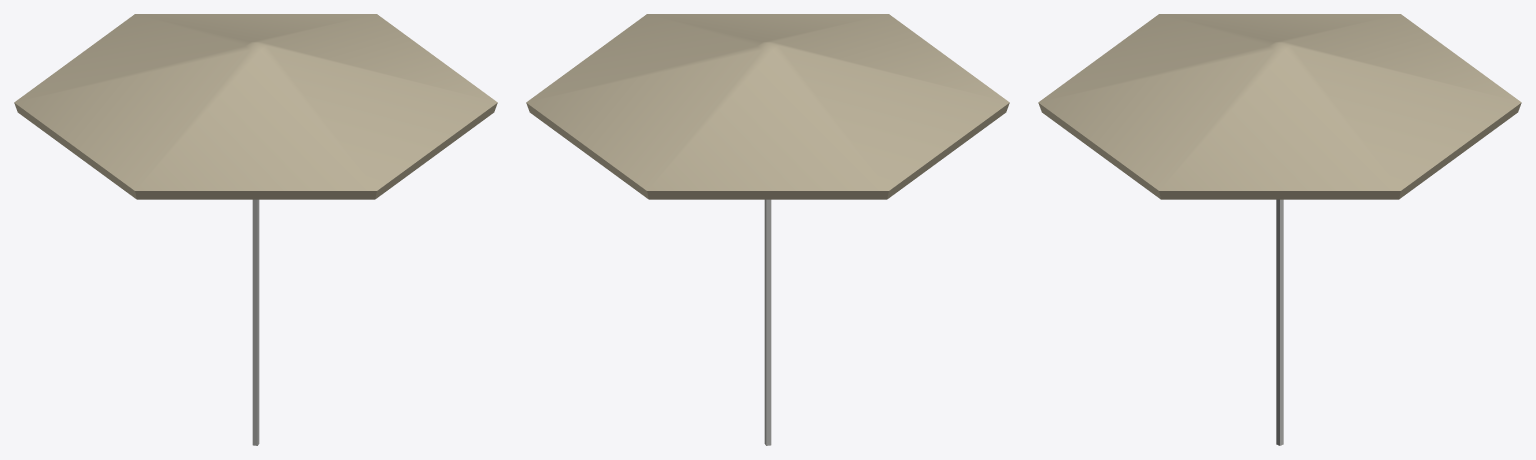
The model's file is SM_Prop_cafe_parasol_0_LOD2.glb.
3 renders of one model, left to right at view 1: azimuth 30°, elevation 25°; view 2: azimuth 150°, elevation 25°; view 3: azimuth 270°, elevation 25°, orthographic.
Parts seen in each view (by area): view 1: SM_Prop_cafe_parasol_0_LOD2; view 2: SM_Prop_cafe_parasol_0_LOD2; view 3: SM_Prop_cafe_parasol_0_LOD2.
Part boxes in pixels (x1=…): SM_Prop_cafe_parasol_0_LOD2: x1=14, y1=14, x2=497, y2=445; SM_Prop_cafe_parasol_0_LOD2: x1=526, y1=14, x2=1009, y2=445; SM_Prop_cafe_parasol_0_LOD2: x1=1038, y1=14, x2=1521, y2=445.
Size of the model in its own units: 2.29 by 2.42 by 2.64.
